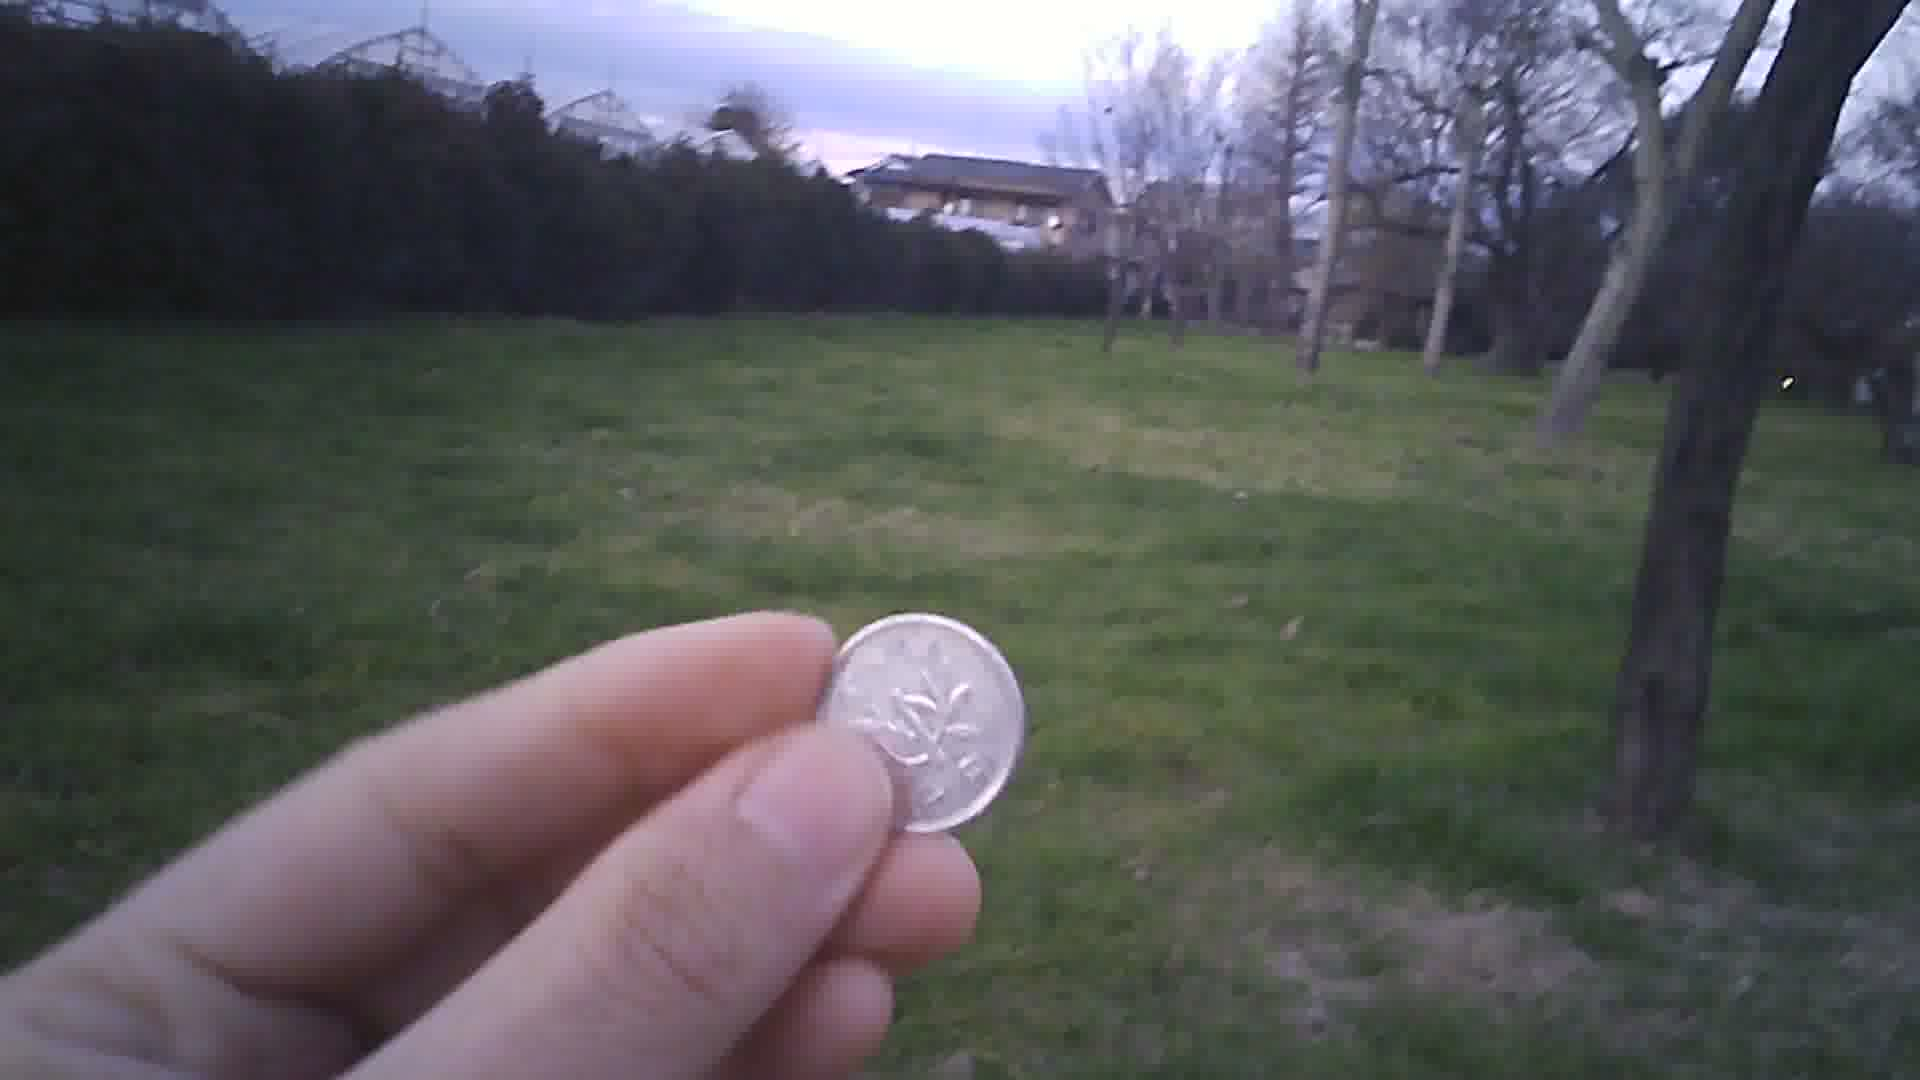1 Yen: (825, 611, 1033, 831)
